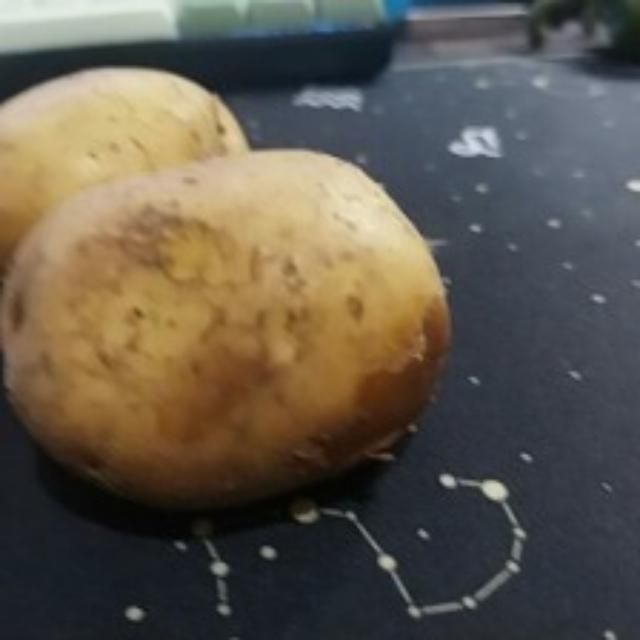Damaged potato: (6, 147, 464, 516)
Potato: (2, 72, 258, 255)
